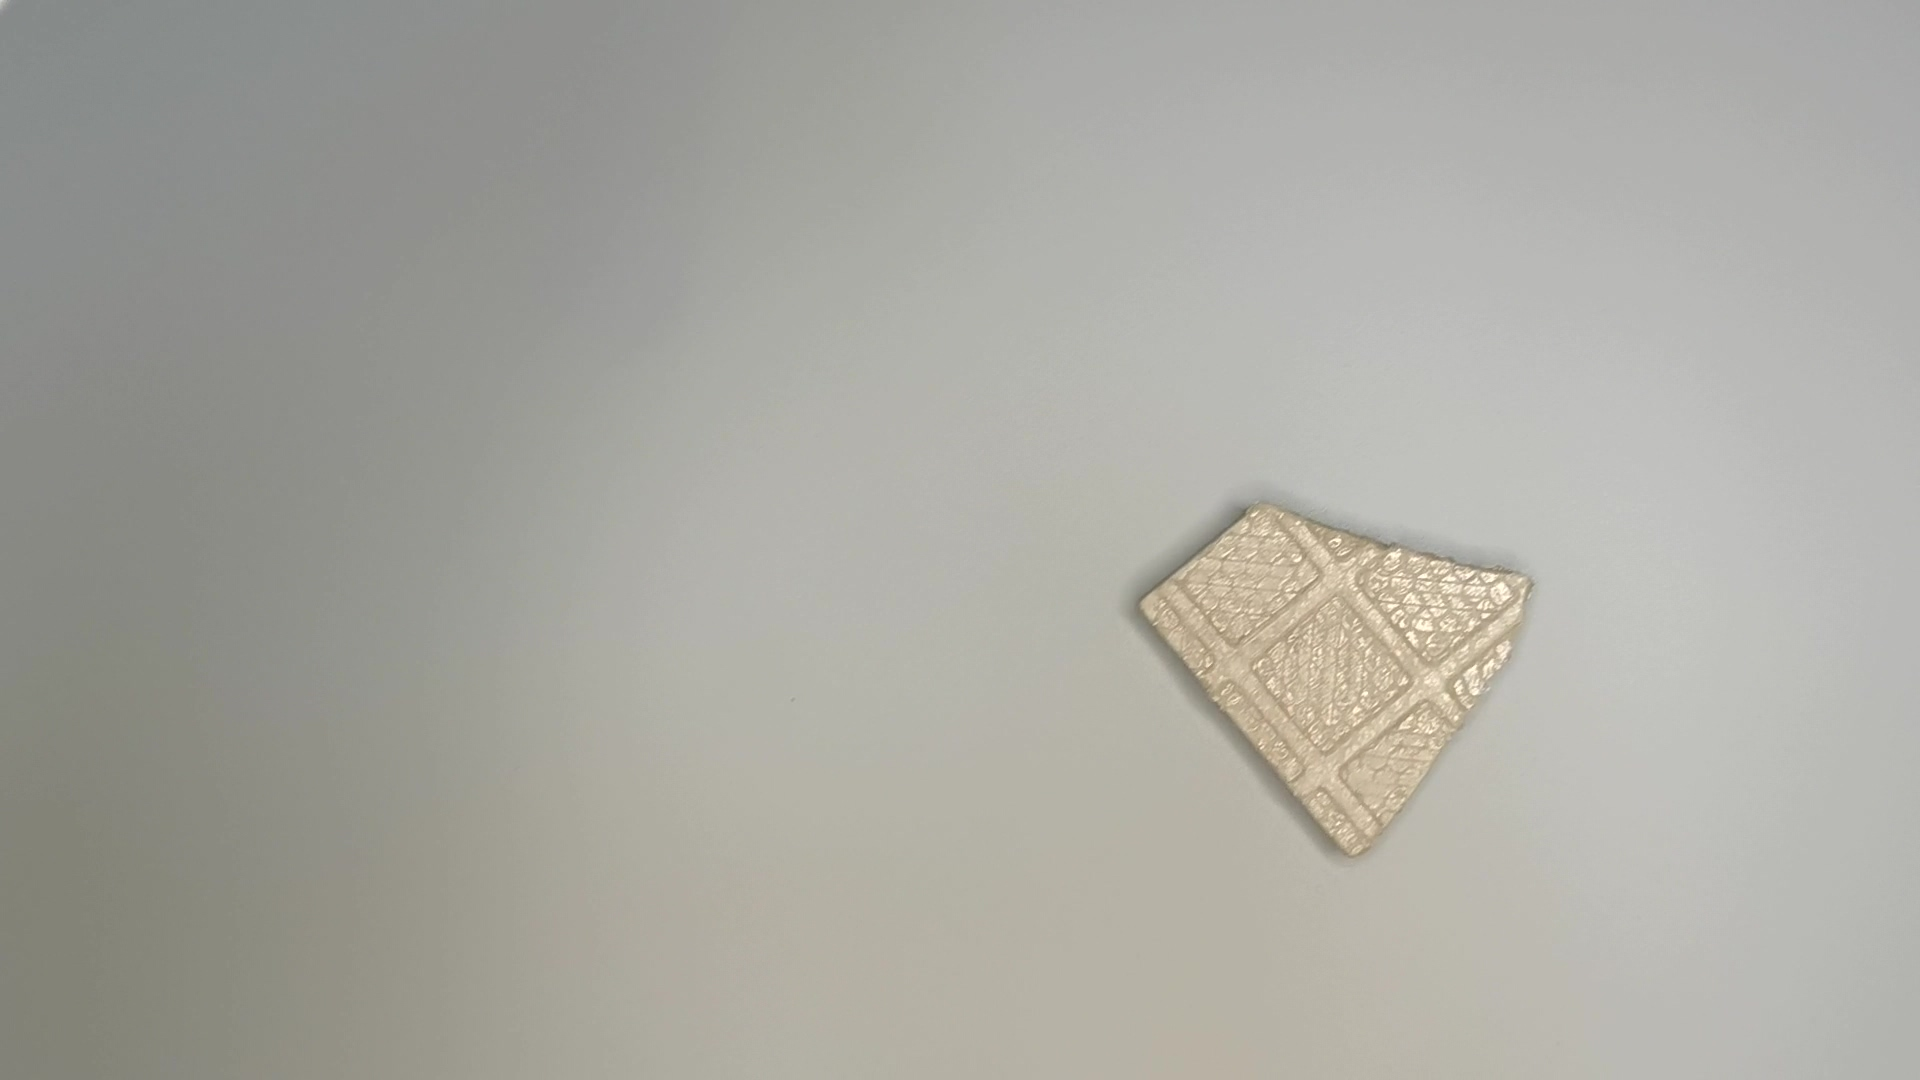ceramic: (1137, 501, 1544, 864)
